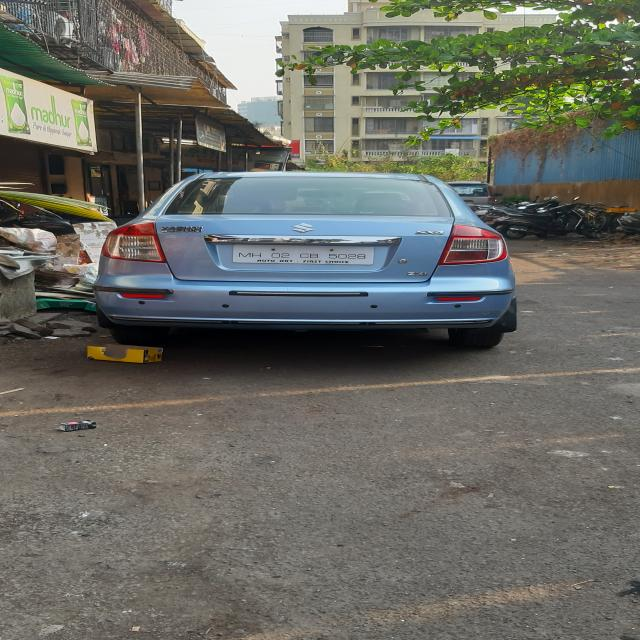Number-Plate: (234, 243, 371, 265)
